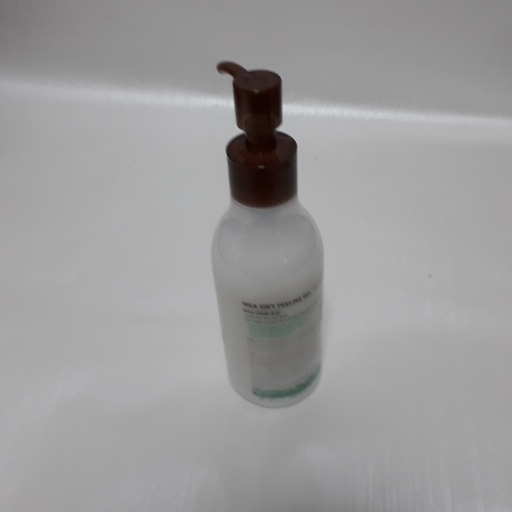Plastic_3: (202, 59, 328, 407)
